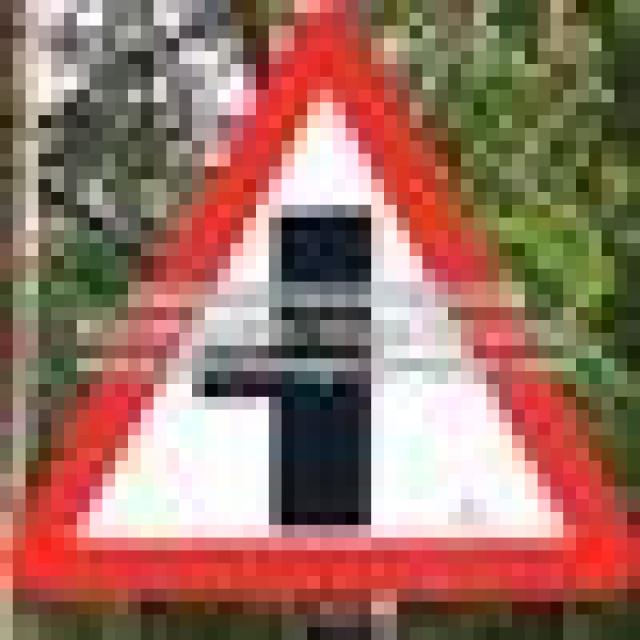SIDE_ROAD_LEFT: (0, 0, 627, 589)
